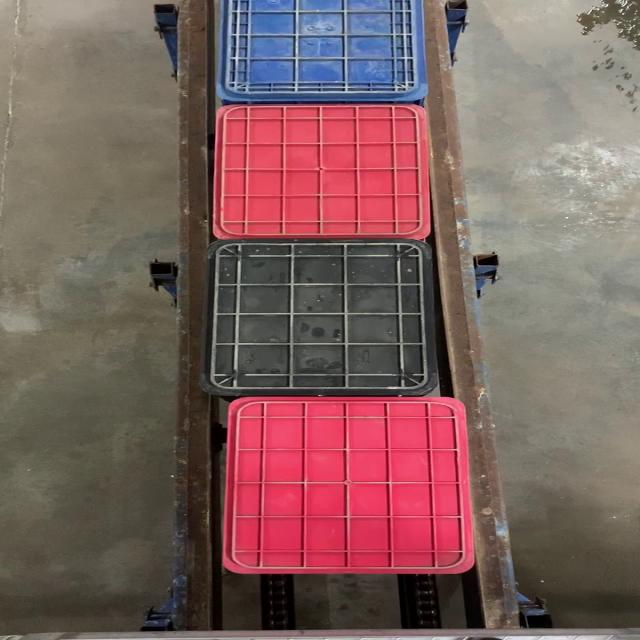Box: (224, 395, 477, 573), (207, 240, 437, 394), (210, 103, 432, 239)
